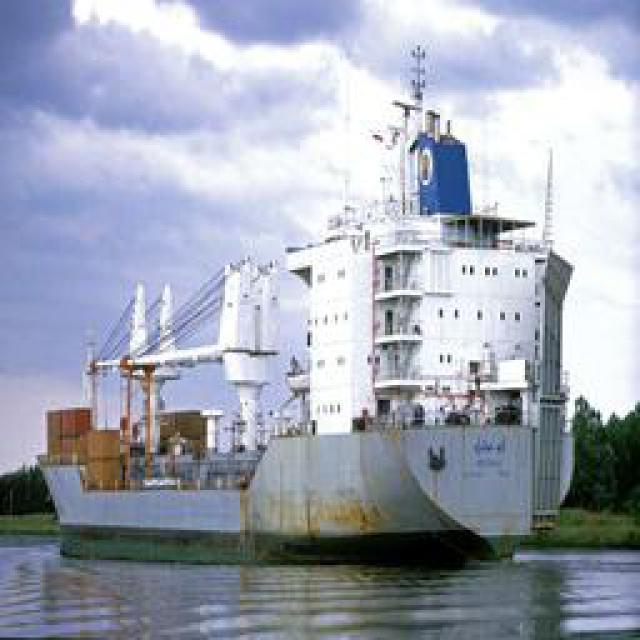Ship: (161, 75, 564, 570)
